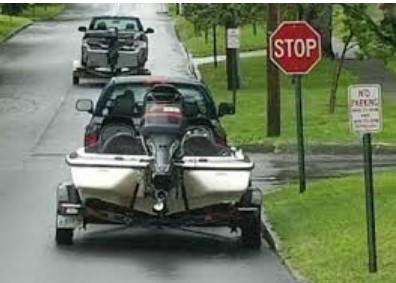Pole: (361, 133, 378, 272), (294, 75, 307, 193)
Sign: (269, 21, 322, 75)
